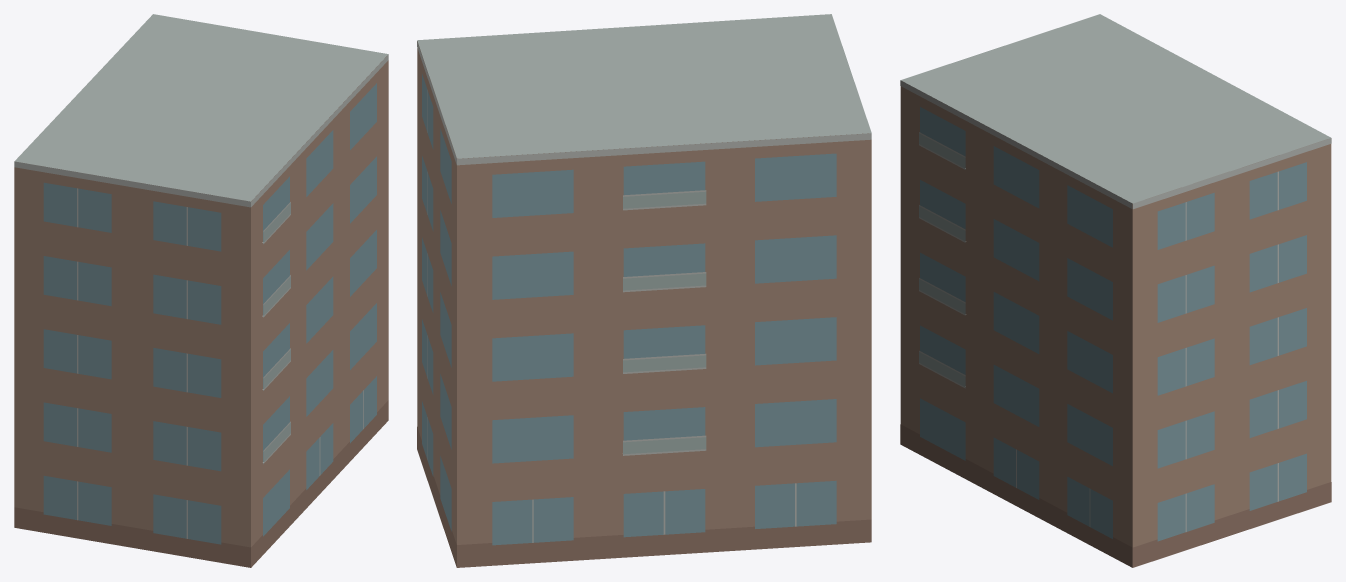
Rendered from survey-upis-32605650.glb.
3 renders of one model, left to right at view 1: azimuth 30°, elevation 25°; view 2: azimuth 150°, elevation 25°; view 3: azimuth 270°, elevation 25°, orthographic. The views are drawn at different scales.
Parts seen in each view (by area): view 1: survey-upis-32605650.tmp; view 2: survey-upis-32605650.tmp; view 3: survey-upis-32605650.tmp.
Part boxes in pixels (x1,y1,x2,y2): survey-upis-32605650.tmp: (14, 14, 388, 567); survey-upis-32605650.tmp: (417, 14, 871, 567); survey-upis-32605650.tmp: (900, 14, 1331, 567).
Bounding box in the file's own units: 17.03 × 15.25 × 16.36.
